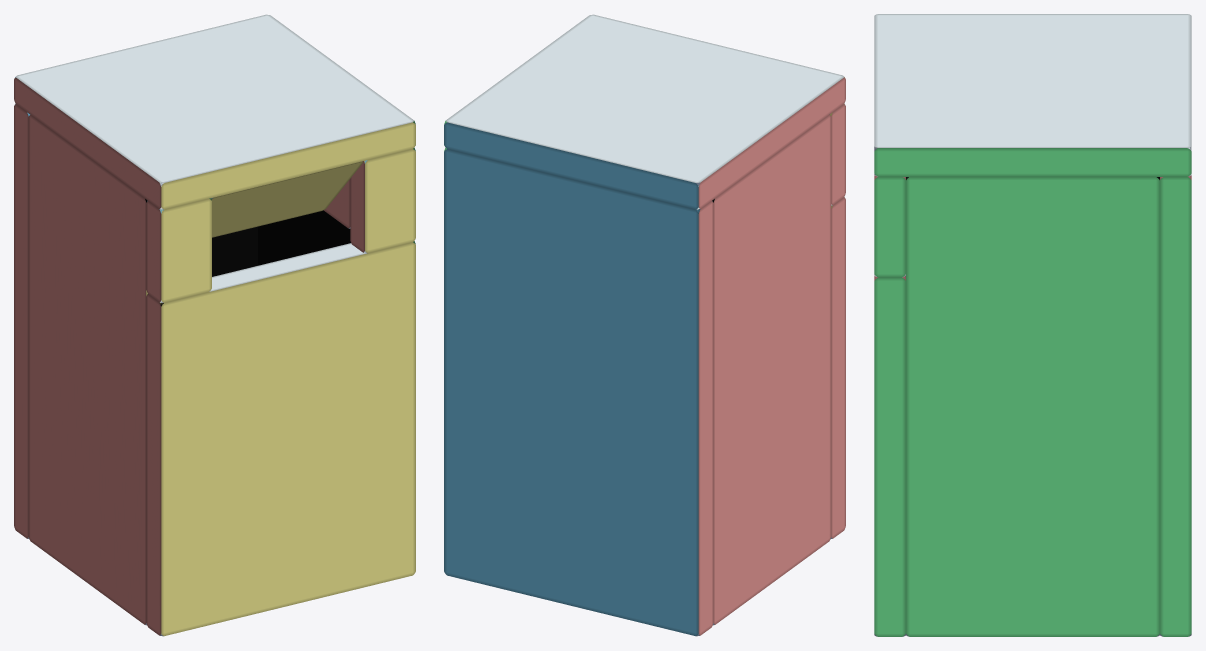
The model's file is trashcan.obj.
3 renders of one model, left to right at view 1: azimuth 30°, elevation 25°; view 2: azimuth 150°, elevation 25°; view 3: azimuth 270°, elevation 25°, orthographic. The views are drawn at different scales.
Visible parts, largest first — view 1: mesh; view 2: mesh; view 3: mesh.
Part boxes in pixels (x1,y1,x2,y2): mesh: [14, 14, 415, 636]; mesh: [444, 14, 845, 636]; mesh: [874, 14, 1191, 636].
Size of the model in its own units: 2.5 by 4.25 by 2.5.
Materials: 1 (1 with a texture image).
